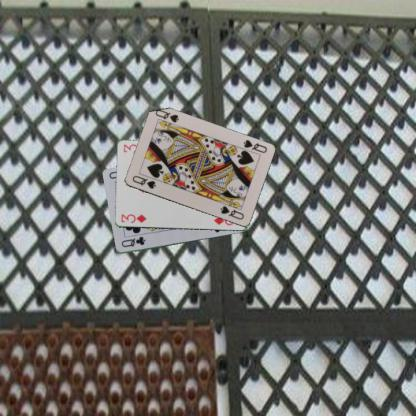3d: (118, 212, 147, 224)
Qc: (119, 234, 146, 248)
Qs: (240, 137, 268, 154), (130, 173, 157, 190)
